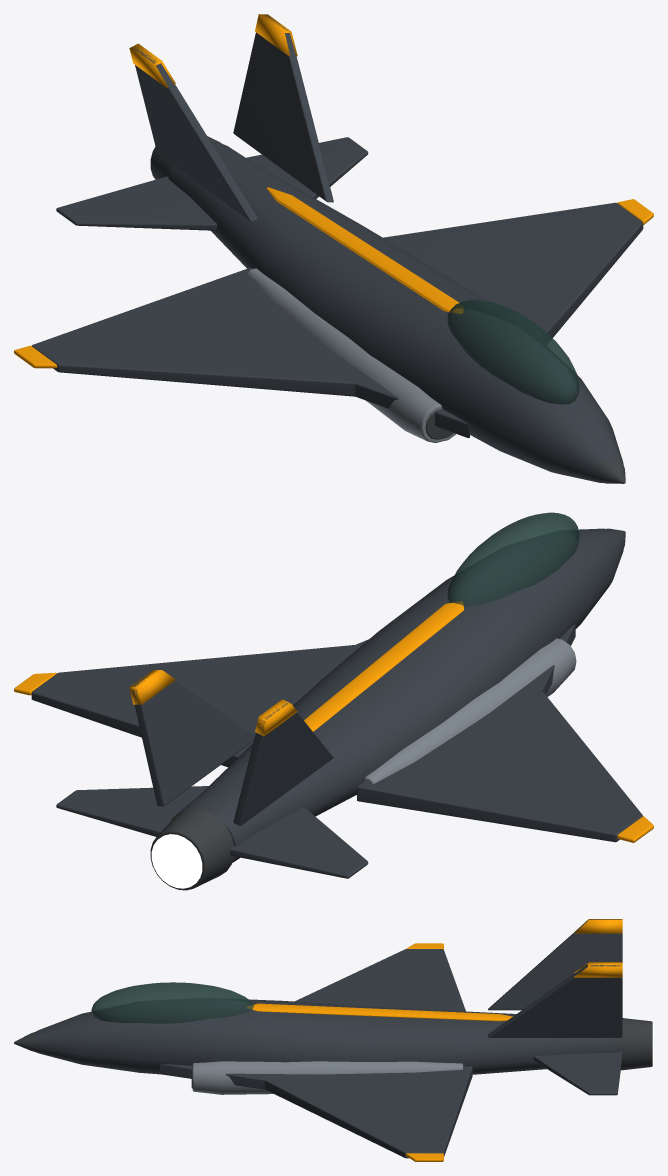
File: Jet_SparrowT2.fbx
3 views of the same model, one above another, from view 1: azimuth 30°, elevation 25°; view 2: azimuth 150°, elevation 25°; view 3: azimuth 270°, elevation 25° (orthographic). The views are drawn at different scales.
Parts seen in each view (by area): view 1: Body, Canopy.001, Accents, Intakes, Trim; view 2: Body, Canopy.001, Accents, Intakes, Trim, Glow; view 3: Body, Canopy.001, Intakes, Accents, Trim.
Boxes of the visible parts, x1,y1,x2,y2 form: Body: [31, 15, 643, 482]; Canopy.001: [447, 299, 579, 404]; Accents: [14, 14, 653, 368]; Intakes: [247, 268, 455, 442]; Trim: [150, 136, 625, 483]; Body: [31, 528, 642, 878]; Canopy.001: [447, 512, 579, 606]; Accents: [14, 601, 653, 842]; Intakes: [364, 638, 576, 783]; Trim: [150, 528, 625, 890]; Glow: [151, 834, 202, 888]; Body: [35, 919, 622, 1158]; Canopy.001: [91, 982, 253, 1023]; Intakes: [192, 1061, 463, 1094]; Accents: [247, 919, 622, 1161]; Trim: [14, 1018, 652, 1088].
Bounding box in the file's own units: 21.2 × 5.97 × 26.5.
